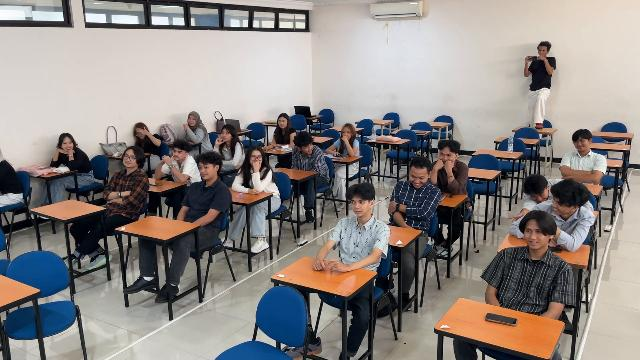senang: (523, 225, 545, 248), (409, 165, 428, 188), (551, 194, 569, 214), (350, 197, 368, 216), (198, 160, 214, 178), (122, 150, 138, 167), (573, 136, 591, 151), (302, 141, 315, 154), (173, 147, 185, 160), (61, 139, 73, 149), (188, 115, 197, 127), (278, 118, 287, 128)
